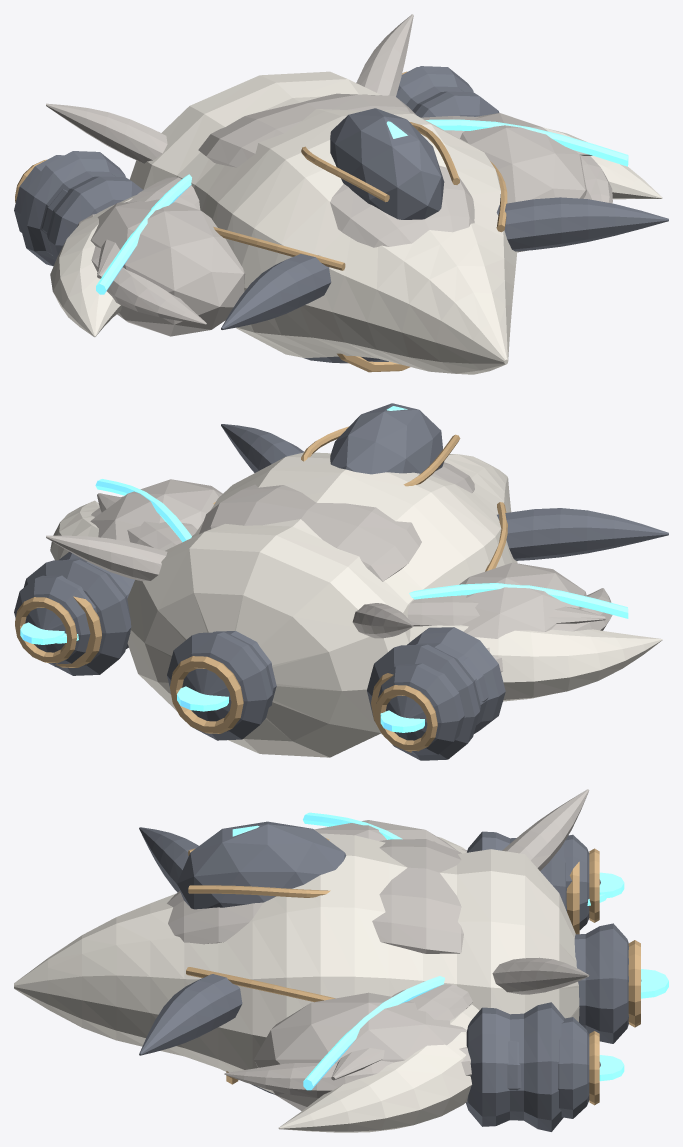
File: SL_BASTION_LOD.glb
The picture shows the model from 3 angles, top to bottom: view 1: azimuth 30°, elevation 25°; view 2: azimuth 150°, elevation 25°; view 3: azimuth 270°, elevation 25°; orthographic projection. The views are drawn at different scales.
Visible parts, largest first — view 1: armor, plate, dark, accent, energy; view 2: armor, dark, plate, accent, energy; view 3: armor, dark, plate, accent, energy.
Part boxes in pixels (left/top/right/bottom): armor: left=50, top=71, right=662, bottom=374; plate: left=46, top=14, right=612, bottom=336; dark: left=14, top=66, right=668, bottom=363; accent: left=15, top=71, right=507, bottom=372; energy: left=96, top=119, right=628, bottom=294; armor: left=50, top=452, right=662, bottom=757; dark: left=14, top=403, right=668, bottom=760; plate: left=46, top=462, right=612, bottom=672; accent: left=15, top=426, right=507, bottom=752; energy: left=20, top=406, right=628, bottom=732; armor: left=14, top=833, right=579, bottom=1132; dark: left=139, top=821, right=641, bottom=1131; plate: left=167, top=789, right=589, bottom=1110; accent: left=186, top=838, right=640, bottom=1105; energy: left=232, top=812, right=668, bottom=1090.
Size of the model in its own units: 5.39 by 2.34 by 5.19.
